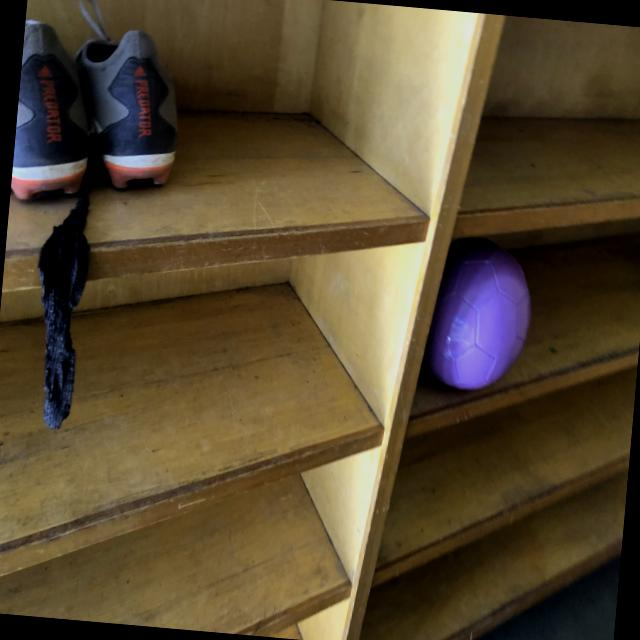purple_ball: (420, 231, 538, 396)
